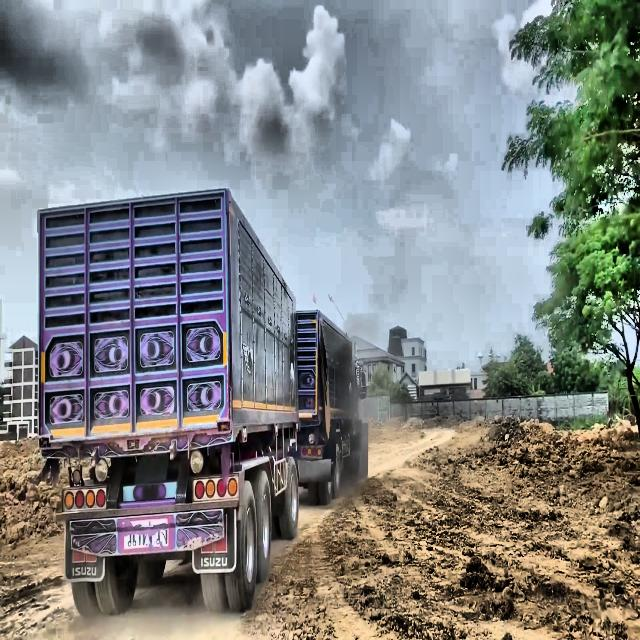trailer: (37, 187, 363, 617)
